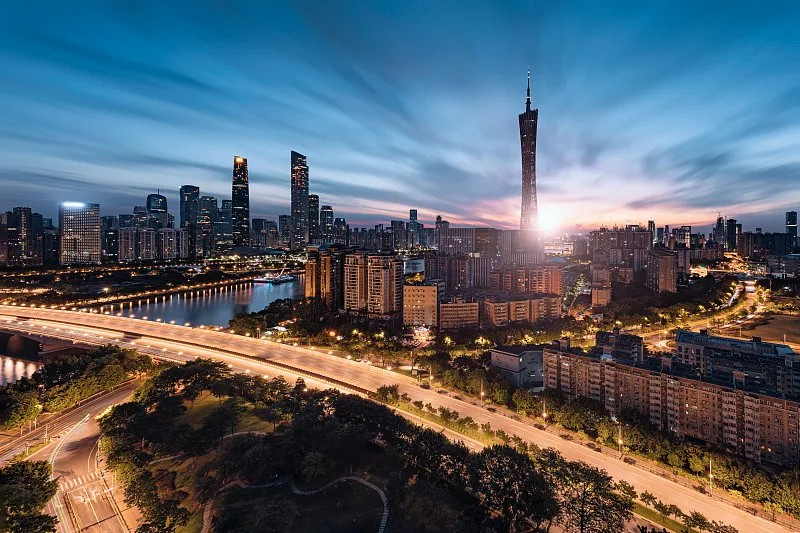Canton: (519, 65, 539, 231)
